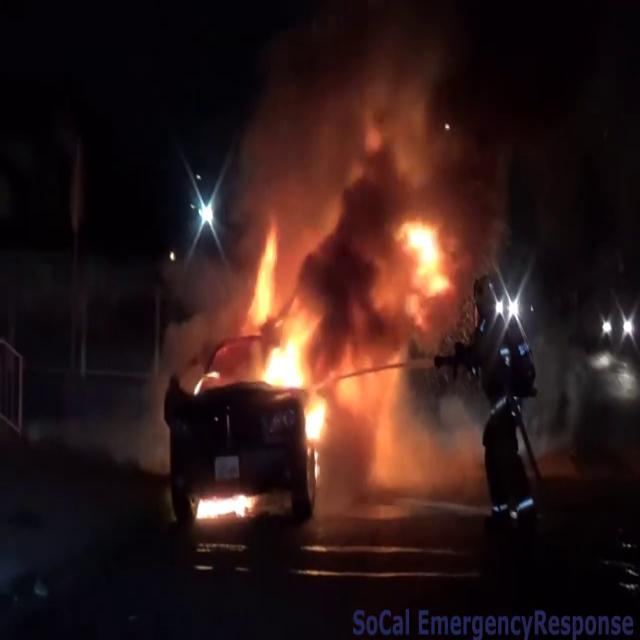Fire: (237, 222, 337, 438), (189, 485, 261, 527)
Smoke: (235, 2, 478, 498)
